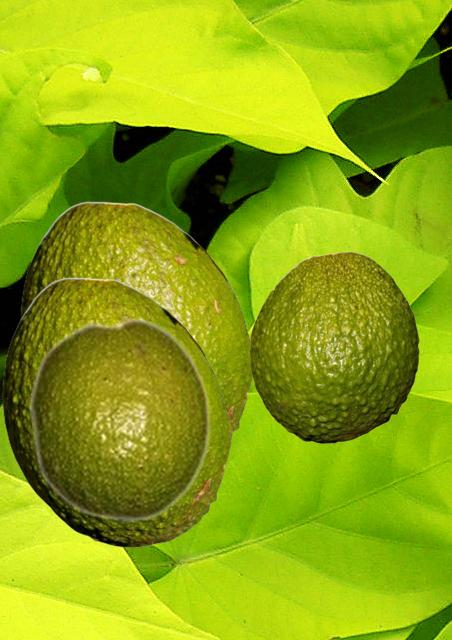avocado: (2, 277, 230, 546), (20, 201, 253, 442), (28, 316, 211, 523), (249, 251, 418, 442)
